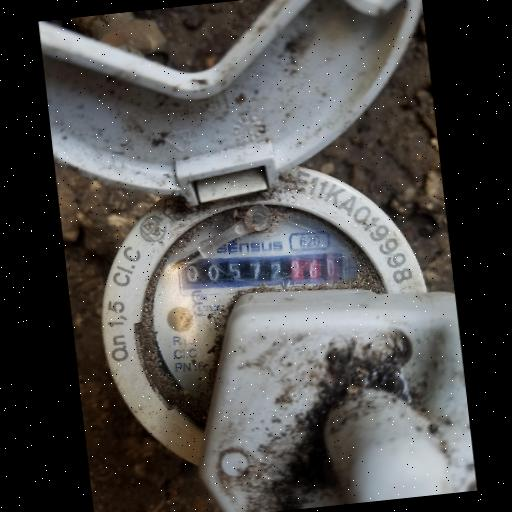0: (321, 252, 342, 285), (184, 262, 203, 286), (204, 261, 223, 285)
2: (265, 259, 288, 284)
5: (225, 261, 244, 285)
6: (305, 258, 324, 281)
7: (245, 260, 266, 284)
9: (288, 257, 307, 281)
border_water_meter_number: (177, 241, 353, 306)
